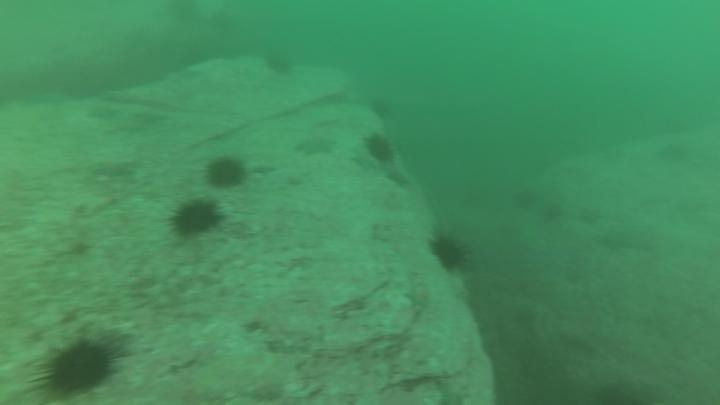echinus: (26, 327, 124, 403), (167, 198, 224, 242), (199, 154, 251, 193), (427, 232, 469, 277), (363, 130, 398, 169), (261, 49, 297, 76), (511, 184, 536, 209), (370, 96, 394, 119)
starfish: (87, 157, 145, 185), (294, 131, 340, 164), (131, 106, 173, 128), (383, 168, 413, 194), (89, 106, 127, 123)
